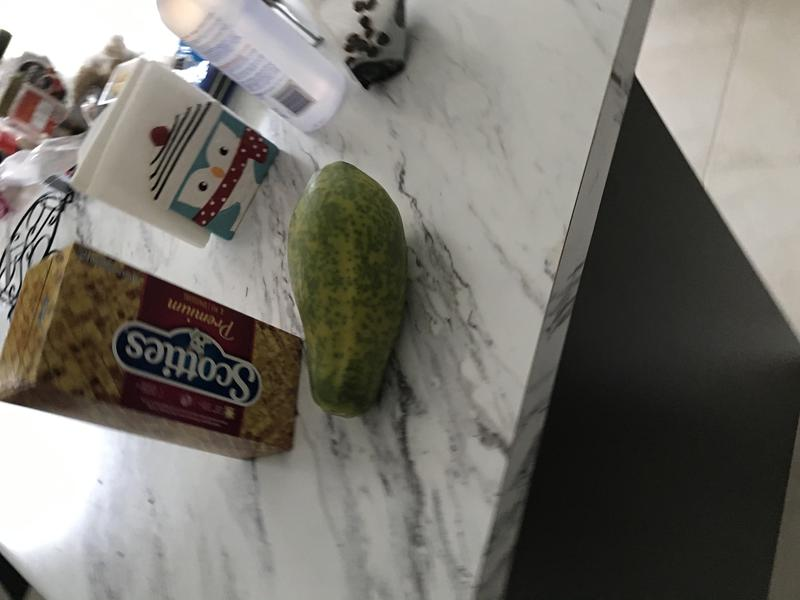papaya: (283, 157, 416, 421)
